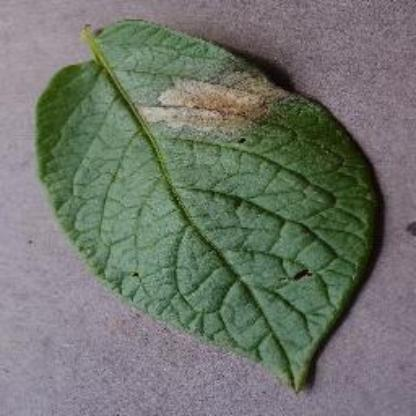Late-Blight: (56, 23, 366, 388)
